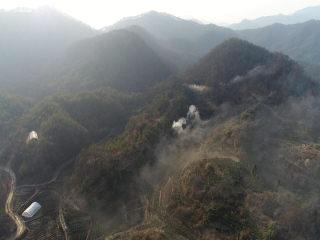smoke: (171, 104, 204, 138), (182, 80, 214, 95)
